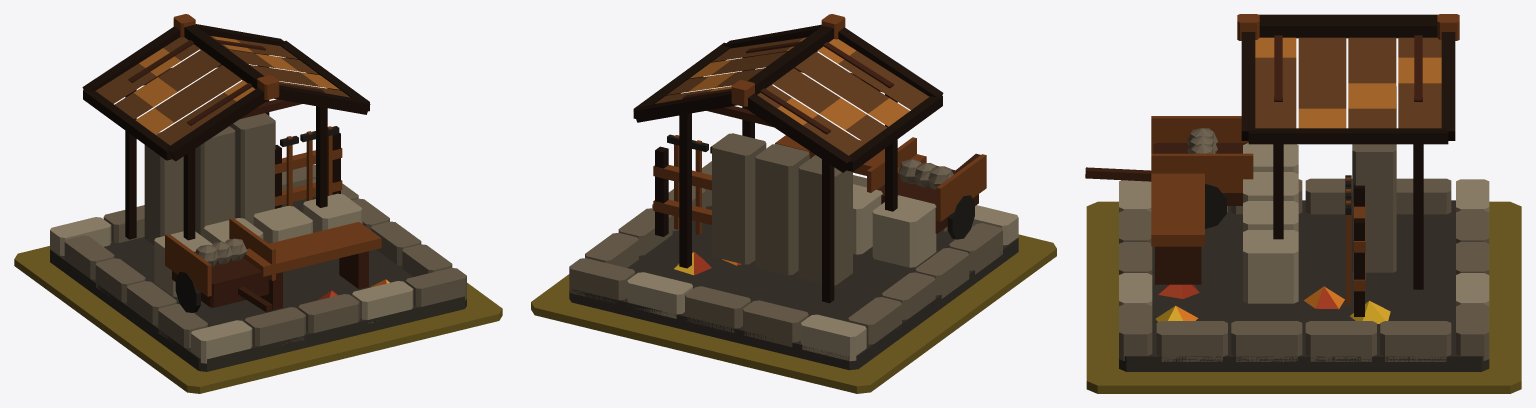
File: mason_yard_t4.glb
The picture shows the model from 3 angles, left to right: view 1: azimuth 30°, elevation 25°; view 2: azimuth 150°, elevation 25°; view 3: azimuth 270°, elevation 25°; orthographic projection. The views are drawn at different scales.
Parts seen in each view (by area): view 1: MMR | mason_yard | T04 Architecture.001, MMR | mason_yard | Tier 04 Ground.001; view 2: MMR | mason_yard | T04 Architecture.001, MMR | mason_yard | Tier 04 Ground.001; view 3: MMR | mason_yard | T04 Architecture.001, MMR | mason_yard | Tier 04 Ground.001, MMR | mason_yard | T04 Autumn Dressing.001.
Boxes of the visible parts, x1=… form: MMR | mason_yard | T04 Architecture.001: x1=50, y1=14, x2=466, y2=371; MMR | mason_yard | Tier 04 Ground.001: x1=14, y1=246, x2=502, y2=393; MMR | mason_yard | T04 Architecture.001: x1=569, y1=14, x2=1018, y2=370; MMR | mason_yard | Tier 04 Ground.001: x1=531, y1=234, x2=1056, y2=393; MMR | mason_yard | T04 Architecture.001: x1=1085, y1=14, x2=1489, y2=371; MMR | mason_yard | Tier 04 Ground.001: x1=1086, y1=201, x2=1521, y2=393; MMR | mason_yard | T04 Autumn Dressing.001: x1=1155, y1=284, x2=1390, y2=323.
Bounding box in the file's own units: 2.35 × 1.65 × 2.36.
1 material, 1 textured.
